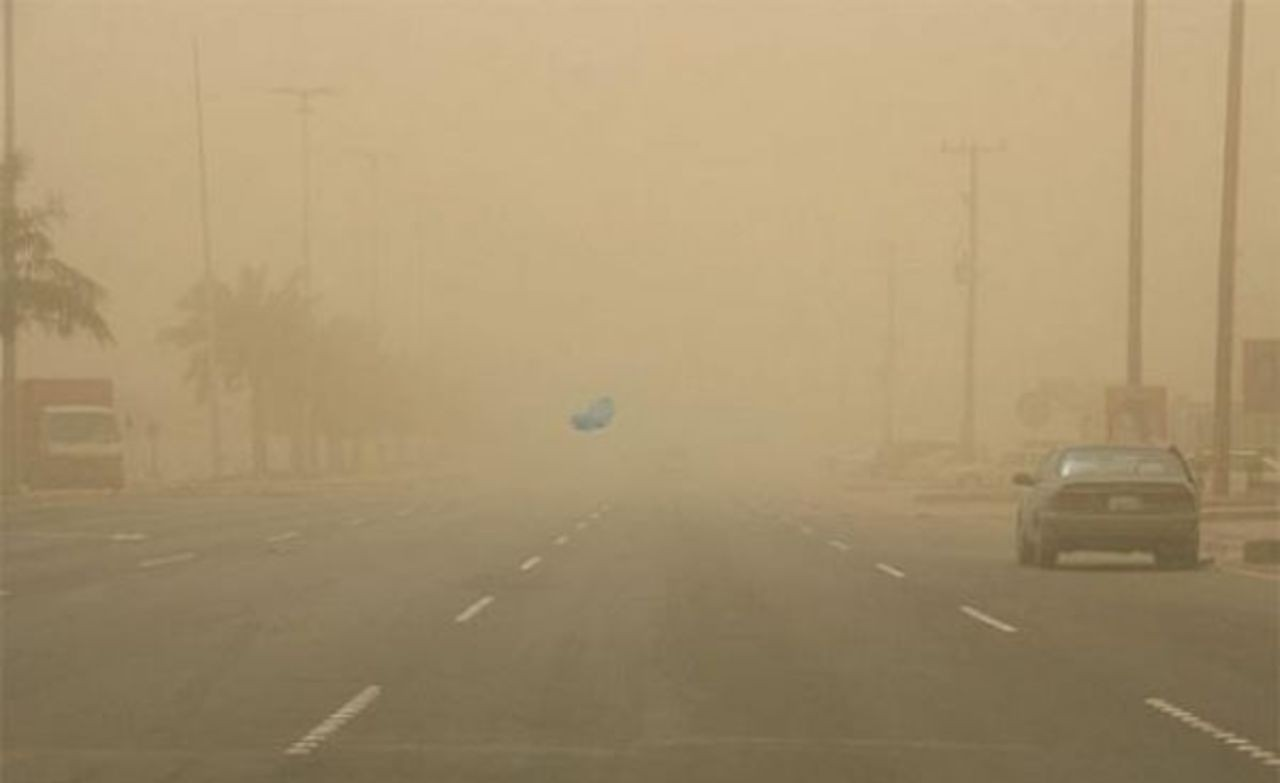car: (1010, 445, 1203, 570), (944, 438, 1028, 486), (843, 435, 935, 478), (907, 445, 968, 479)
truck: (15, 375, 134, 491)
